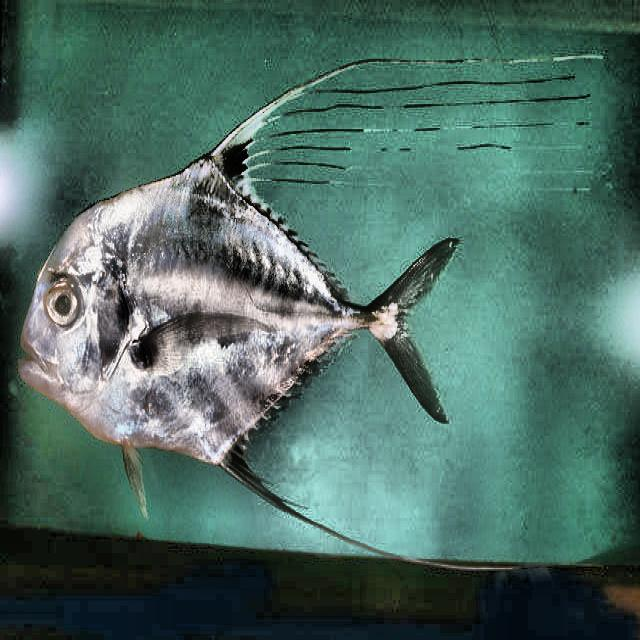fish: (18, 54, 594, 571)
